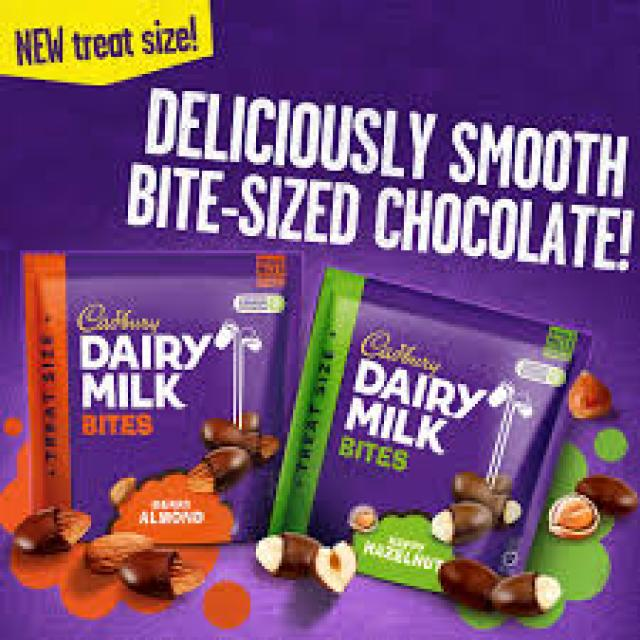cadbury: (262, 261, 608, 595), (15, 242, 297, 553)
